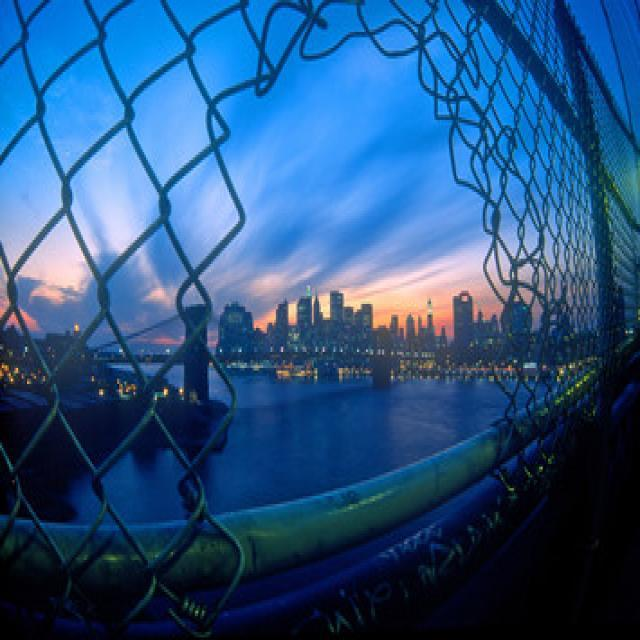fence line: (190, 36, 560, 615)
